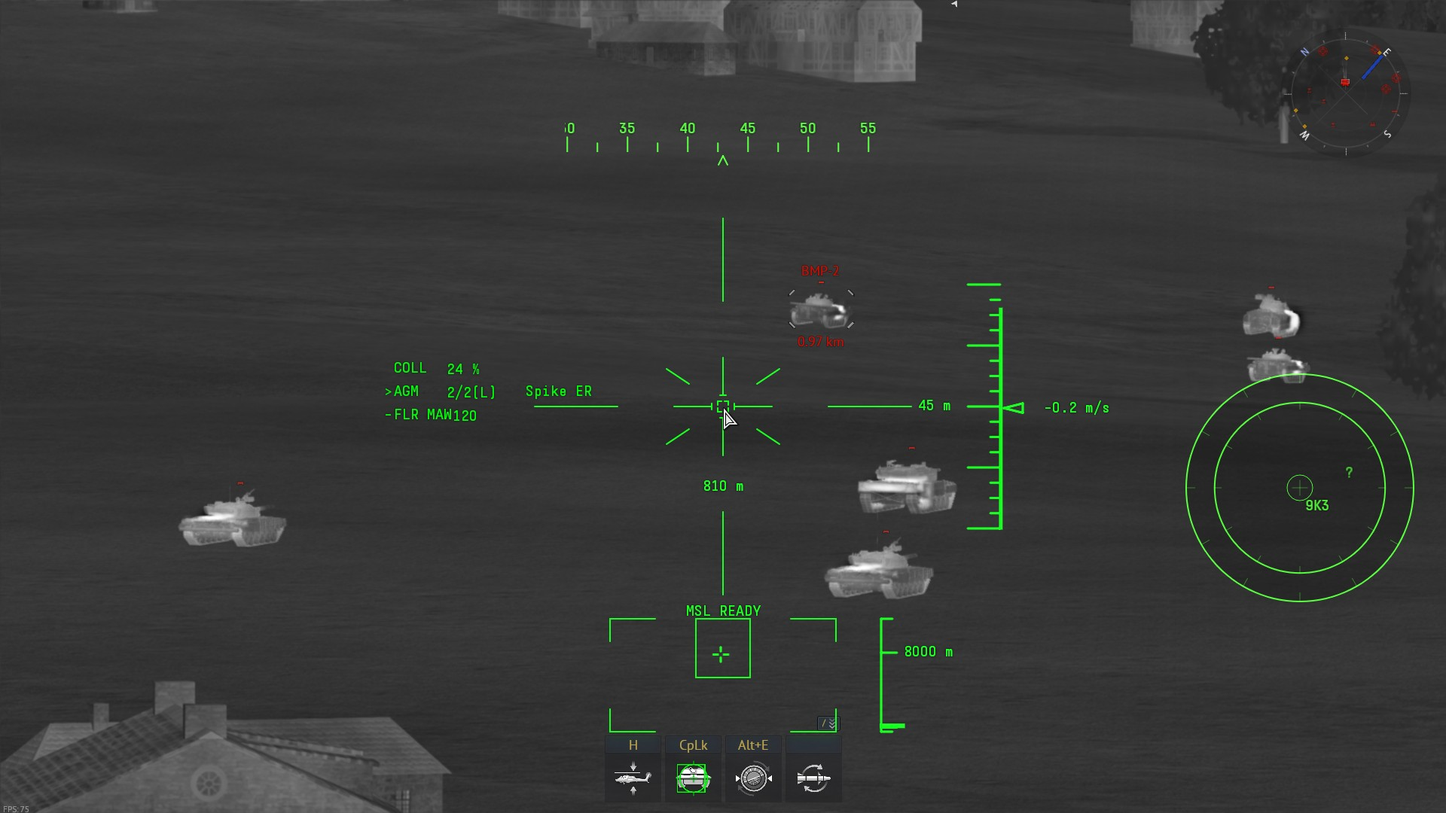bmp2: (179, 496, 287, 548), (1247, 348, 1311, 384)
leopard2: (824, 537, 935, 599), (858, 460, 958, 514)
t72b: (790, 293, 852, 328)
